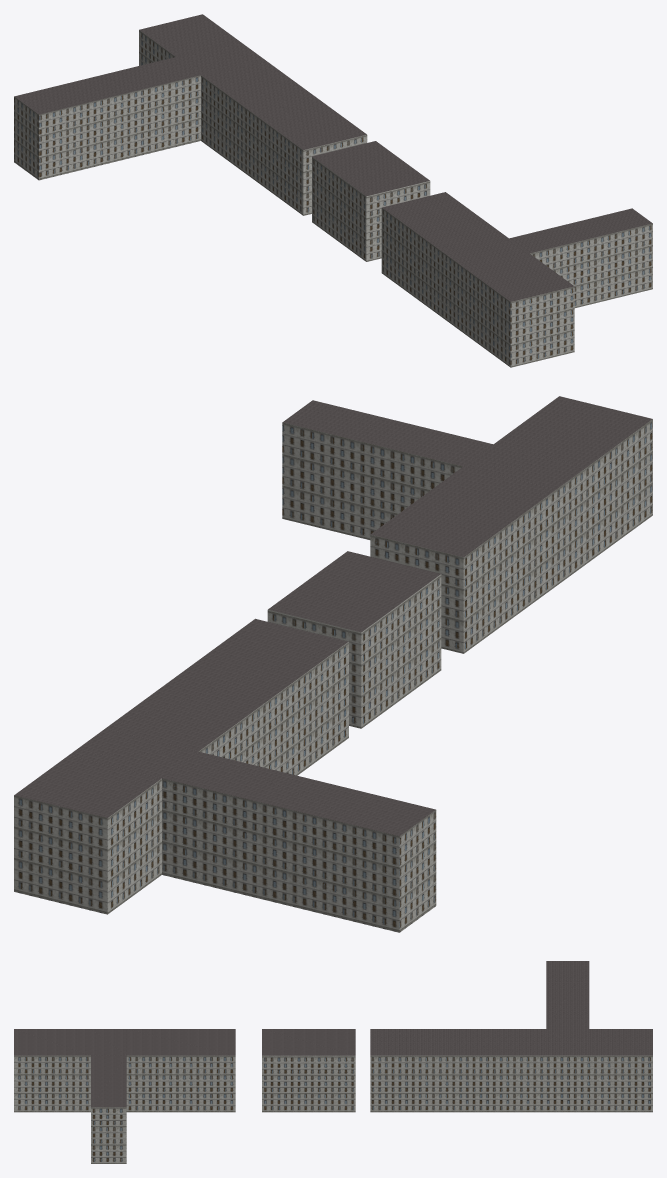
Rendered from Buiildings_1.obj.
3 views of the same model, one above another, from view 1: azimuth 30°, elevation 25°; view 2: azimuth 150°, elevation 25°; view 3: azimuth 270°, elevation 25° (orthographic). The views are drawn at different scales.
Visible parts, largest first — view 1: Cube.004, Cube.002, Cube.003; view 2: Cube.004, Cube.002, Cube.003; view 3: Cube.004, Cube.002, Cube.003.
Boxes of the visible parts, left/top/right/bottom form: Cube.004: left=14, top=14, right=367, bottom=215; Cube.002: left=381, top=192, right=652, bottom=367; Cube.003: left=312, top=141, right=430, bottom=261; Cube.004: left=14, top=618, right=436, bottom=932; Cube.002: left=282, top=396, right=652, bottom=653; Cube.003: left=267, top=551, right=441, bottom=728; Cube.004: left=370, top=961, right=652, bottom=1112; Cube.002: left=14, top=1029, right=235, bottom=1163; Cube.003: left=262, top=1029, right=355, bottom=1112.
Size of the model in its own units: 262 by 47.25 by 484.
